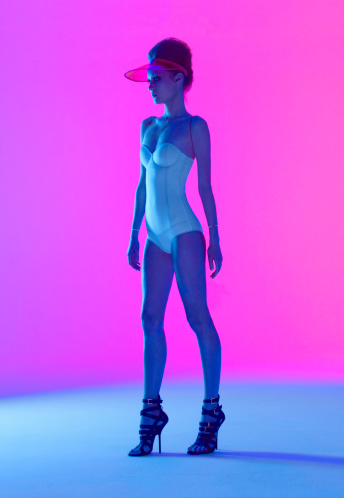em pe: (113, 31, 241, 434)
